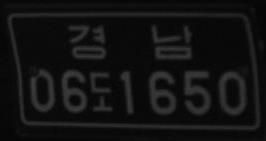0: (218, 70, 247, 117), (29, 67, 55, 113)
1: (116, 69, 140, 114)
5: (183, 69, 211, 116)
6: (147, 69, 178, 116), (61, 69, 88, 113)
경남_D: (68, 23, 193, 61)
도: (89, 70, 115, 112)
